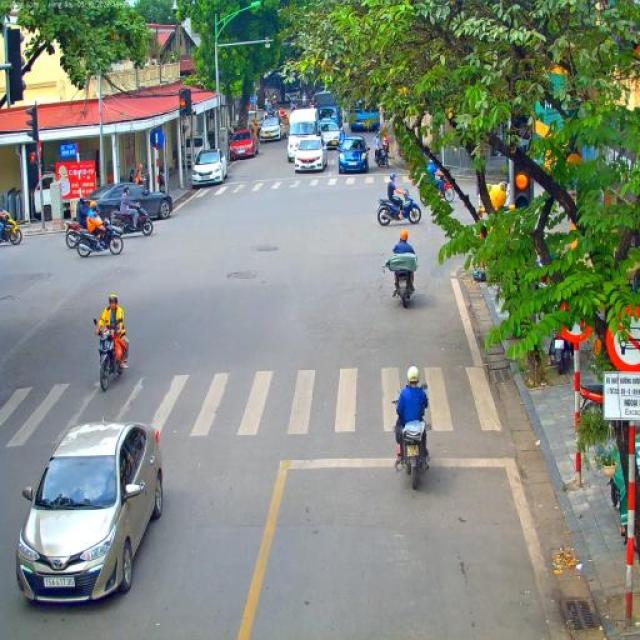bus: (287, 108, 318, 162), (350, 102, 380, 133)
car: (15, 416, 165, 606), (84, 183, 174, 219), (191, 148, 228, 187), (293, 135, 328, 174), (338, 136, 370, 175), (229, 129, 259, 161), (318, 120, 341, 150), (259, 118, 283, 144)
motorcycle: (392, 383, 432, 492), (94, 318, 130, 392), (380, 253, 420, 309), (76, 215, 125, 257), (373, 188, 422, 228), (110, 201, 155, 237), (548, 315, 571, 375), (65, 218, 103, 248), (0, 210, 24, 246), (580, 383, 604, 415), (436, 178, 456, 202), (374, 146, 390, 169), (379, 133, 390, 153), (278, 113, 290, 127), (268, 107, 278, 118), (290, 103, 296, 115), (302, 95, 307, 109)
truck: (24, 170, 78, 222), (312, 91, 342, 128)
